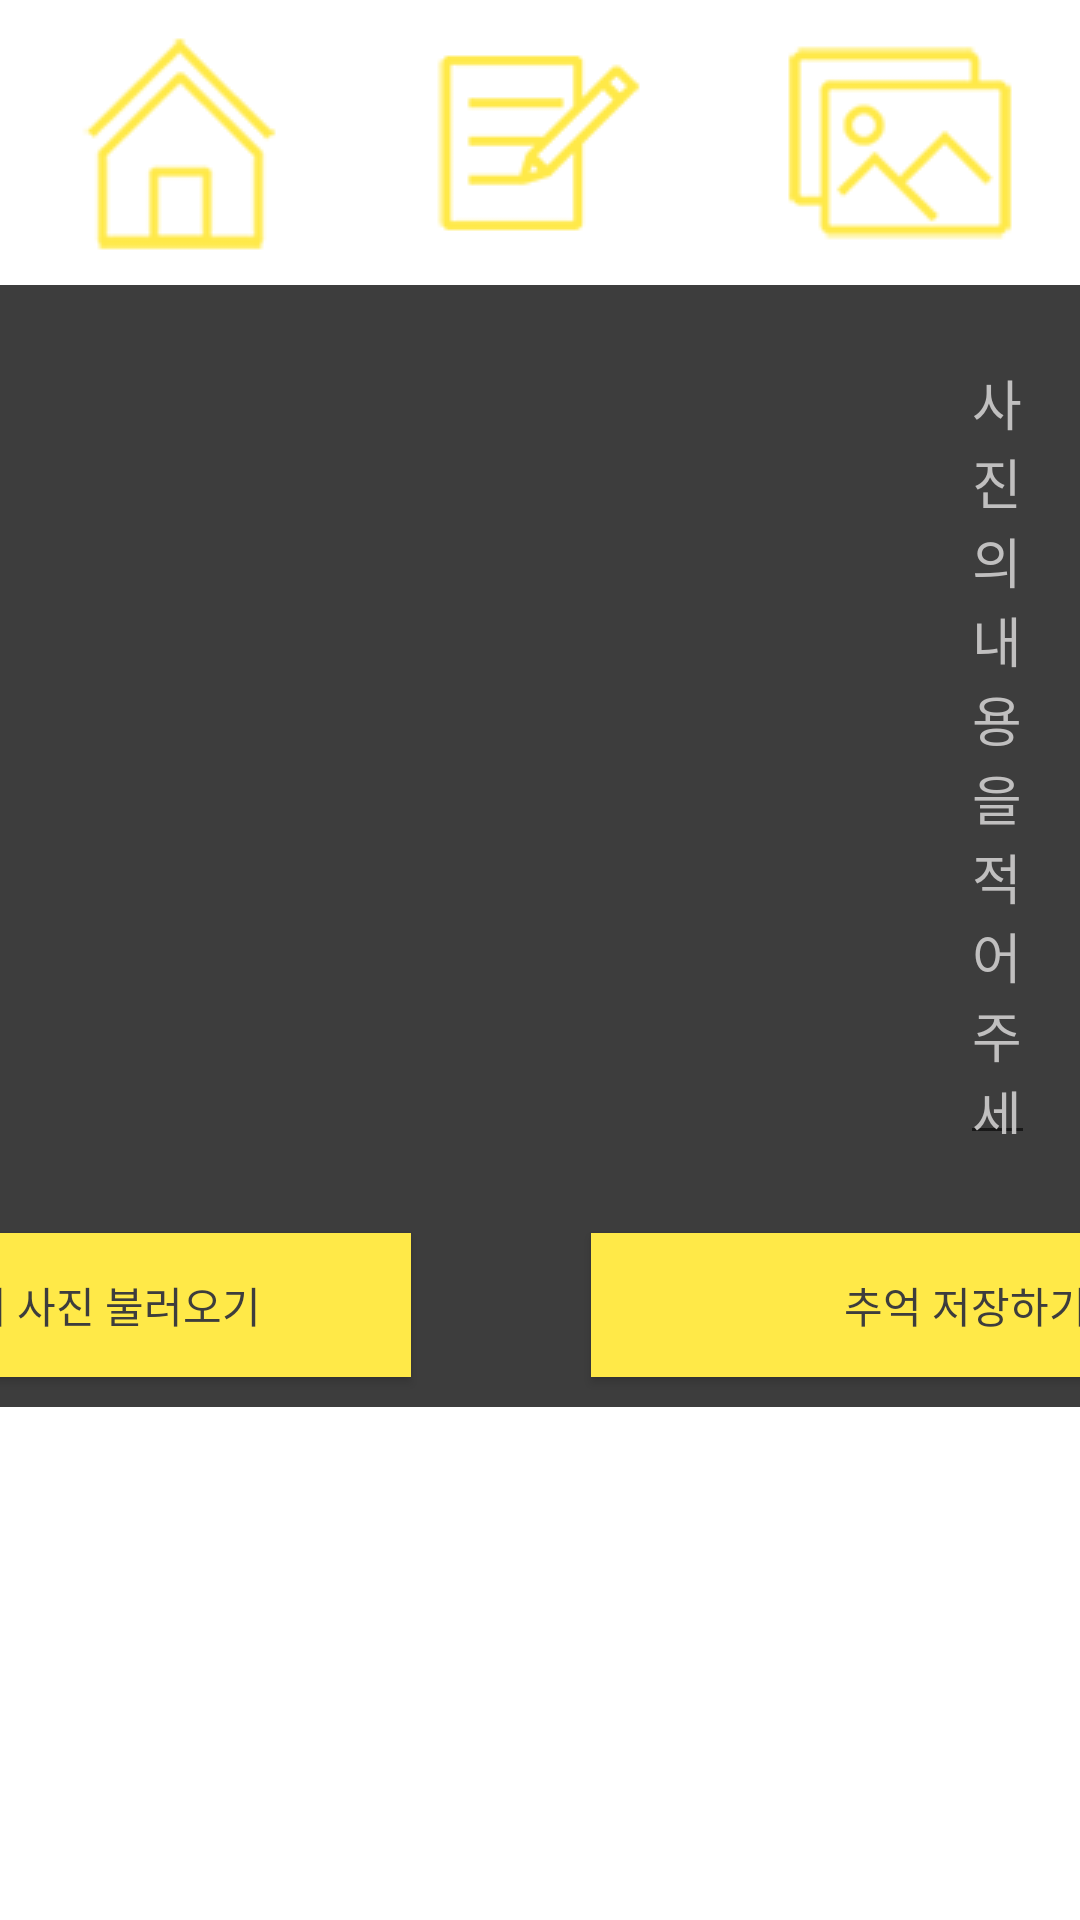

Icons on this 1080*1920 Android screen, each with its box as box(x1, y1, x2, y2):
gall: box(788, 46, 1012, 239)
